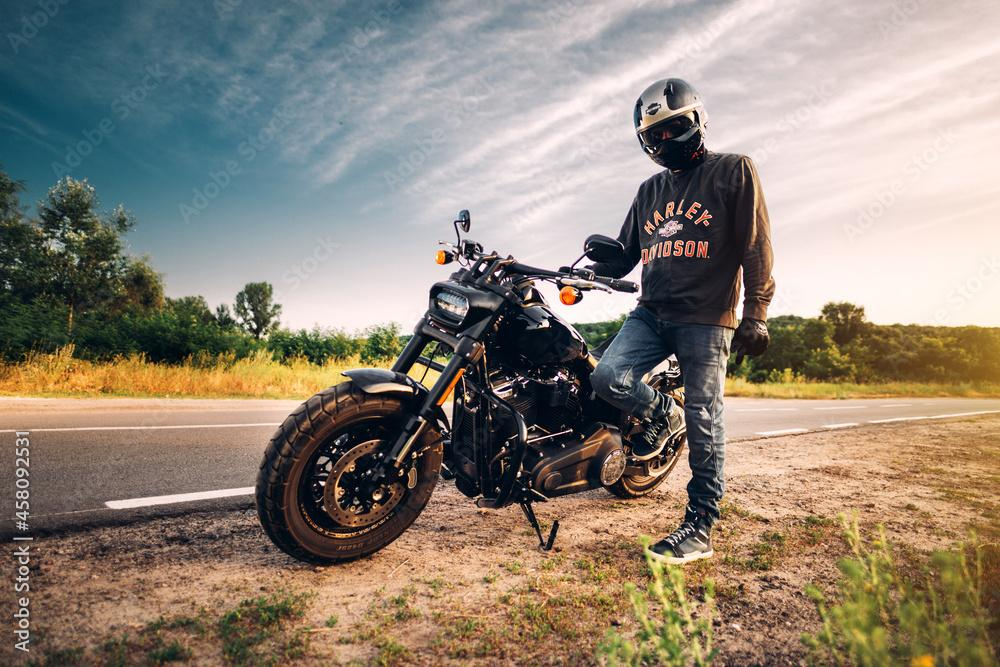helmet: (632, 77, 709, 171)
